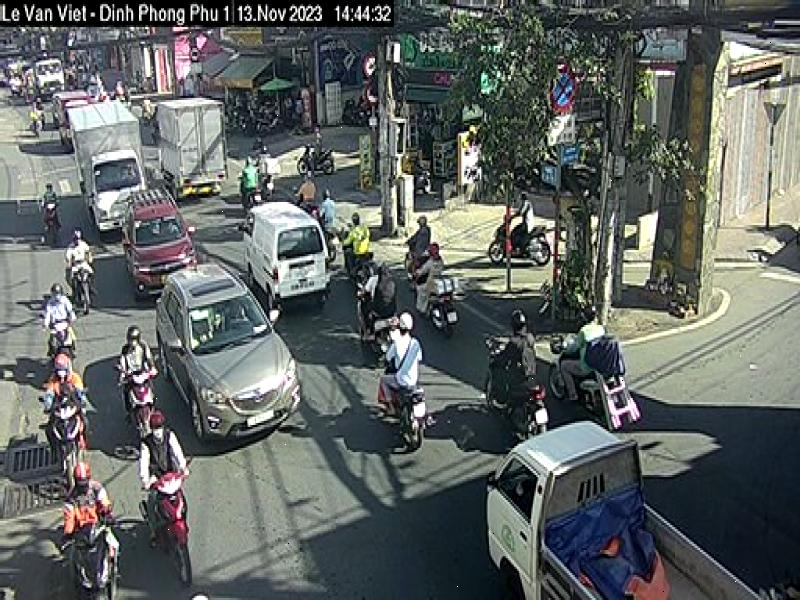truck: (481, 416, 798, 600), (69, 97, 147, 234)
